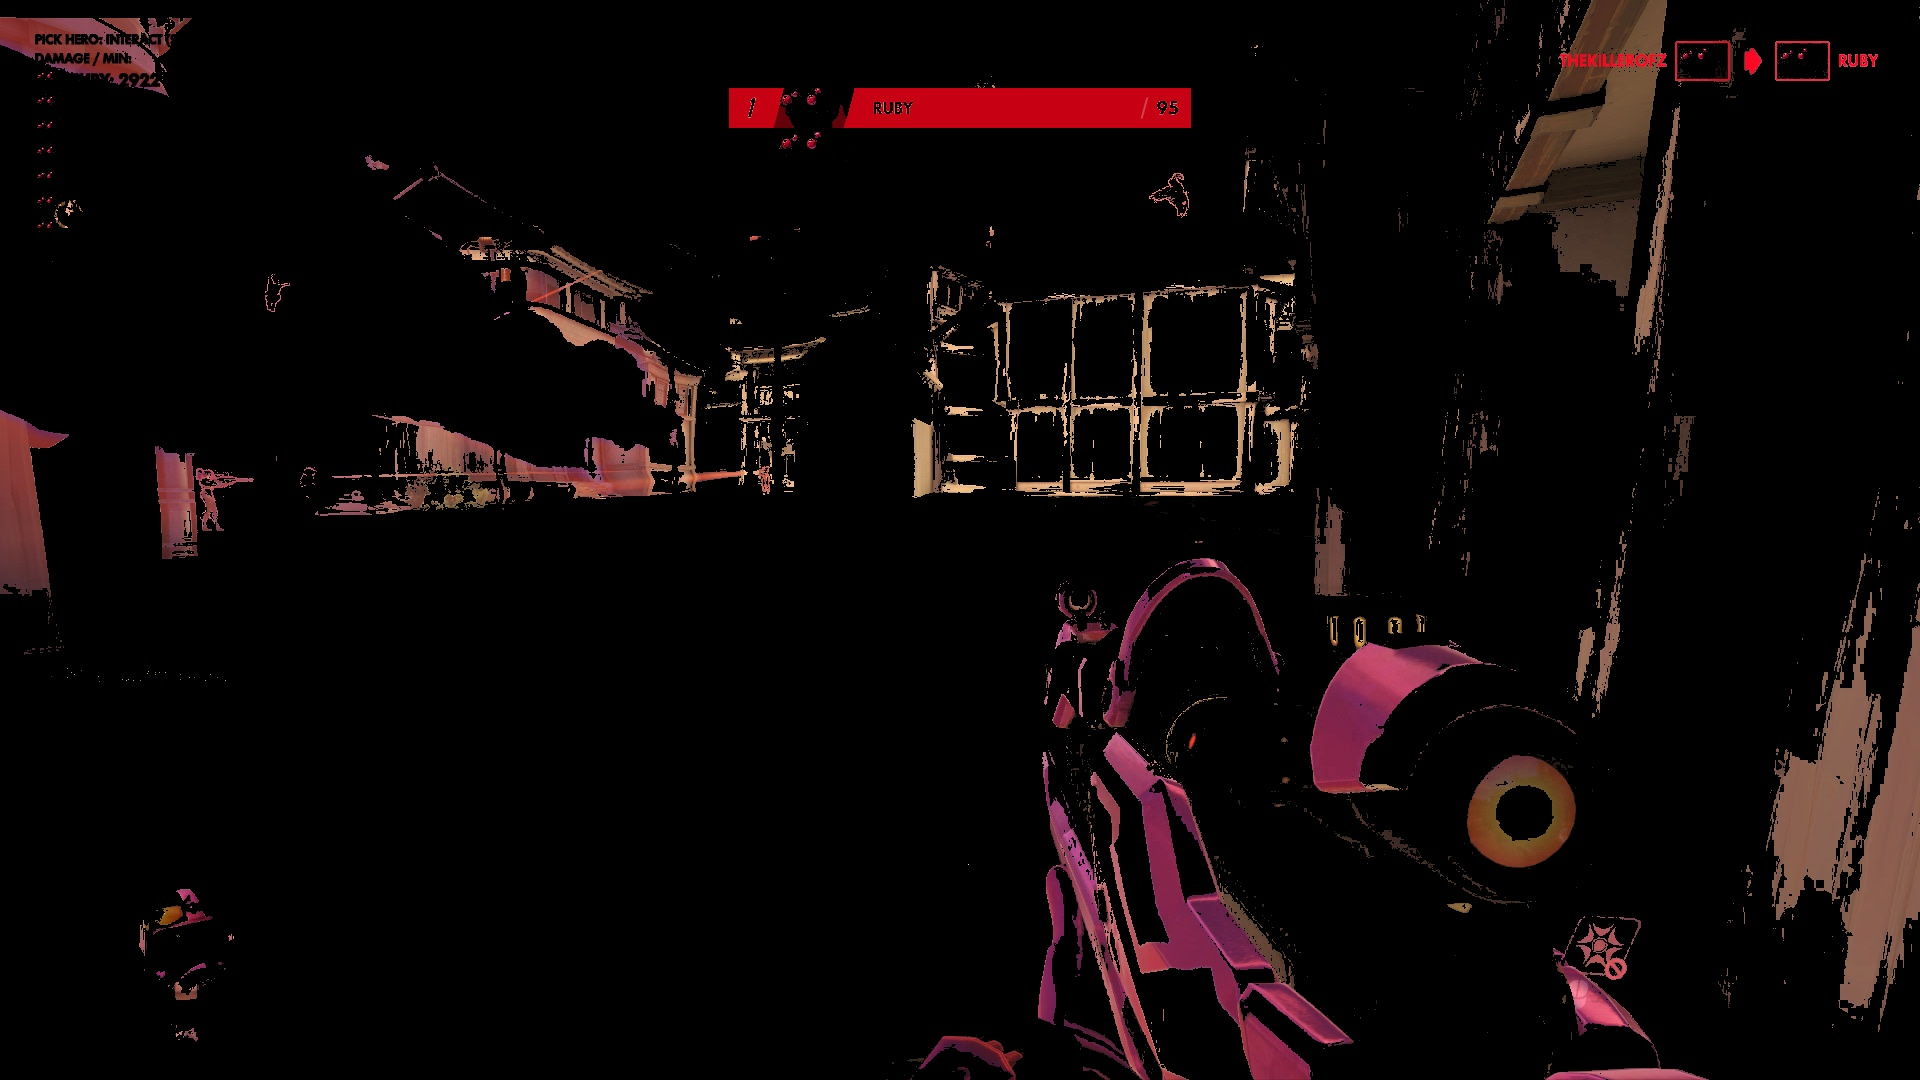widowmaker: (191, 463, 229, 535), (753, 459, 774, 491)
